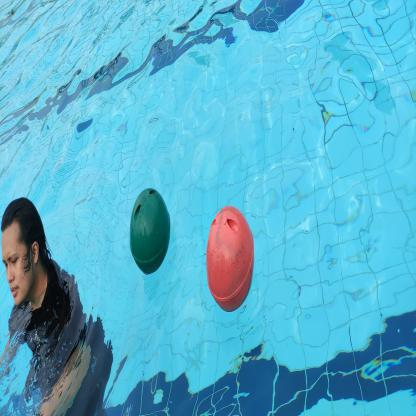green_buoy: (129, 185, 173, 277)
red_buoy: (204, 200, 256, 312)
